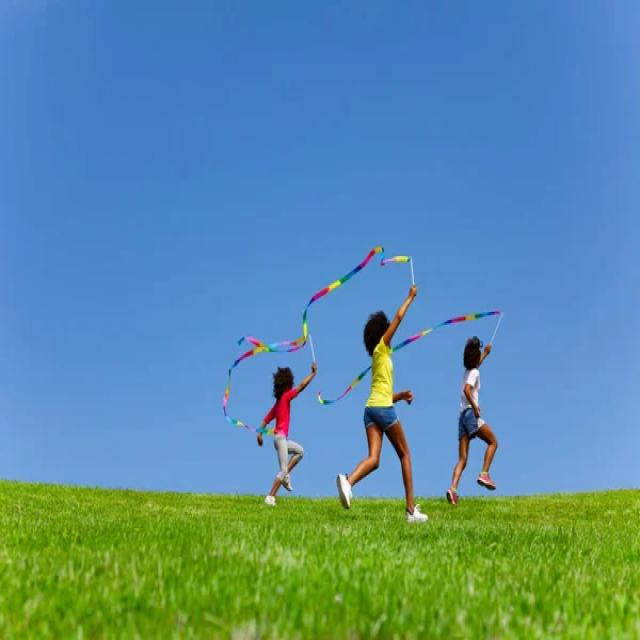Person: (338, 284, 430, 524), (446, 335, 501, 507), (258, 362, 317, 506)
